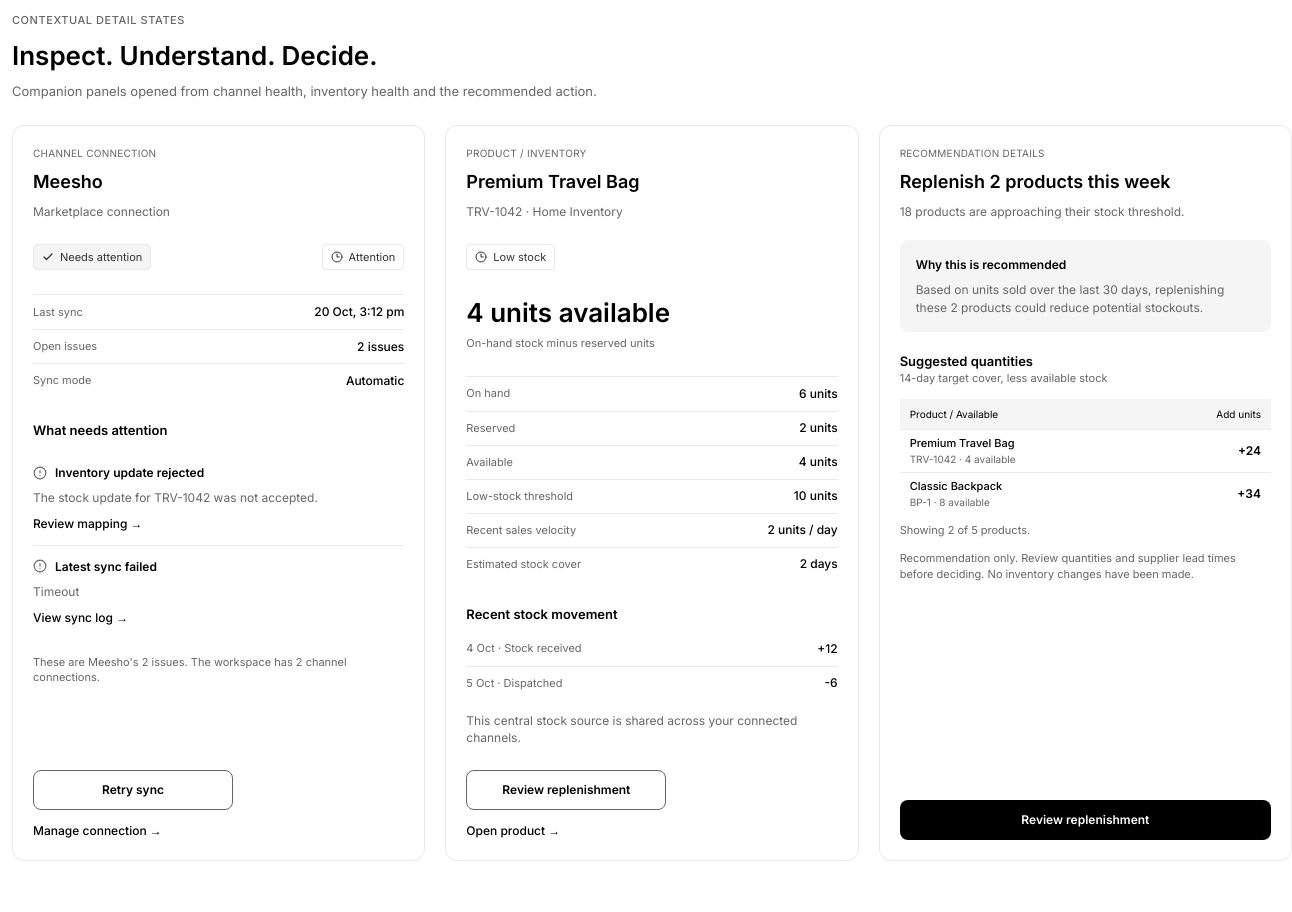
retry sync › reports a failed job honestly
Click the button "Retry sync" at (133, 790), box [33, 770, 233, 810]
Wait 1600 ms
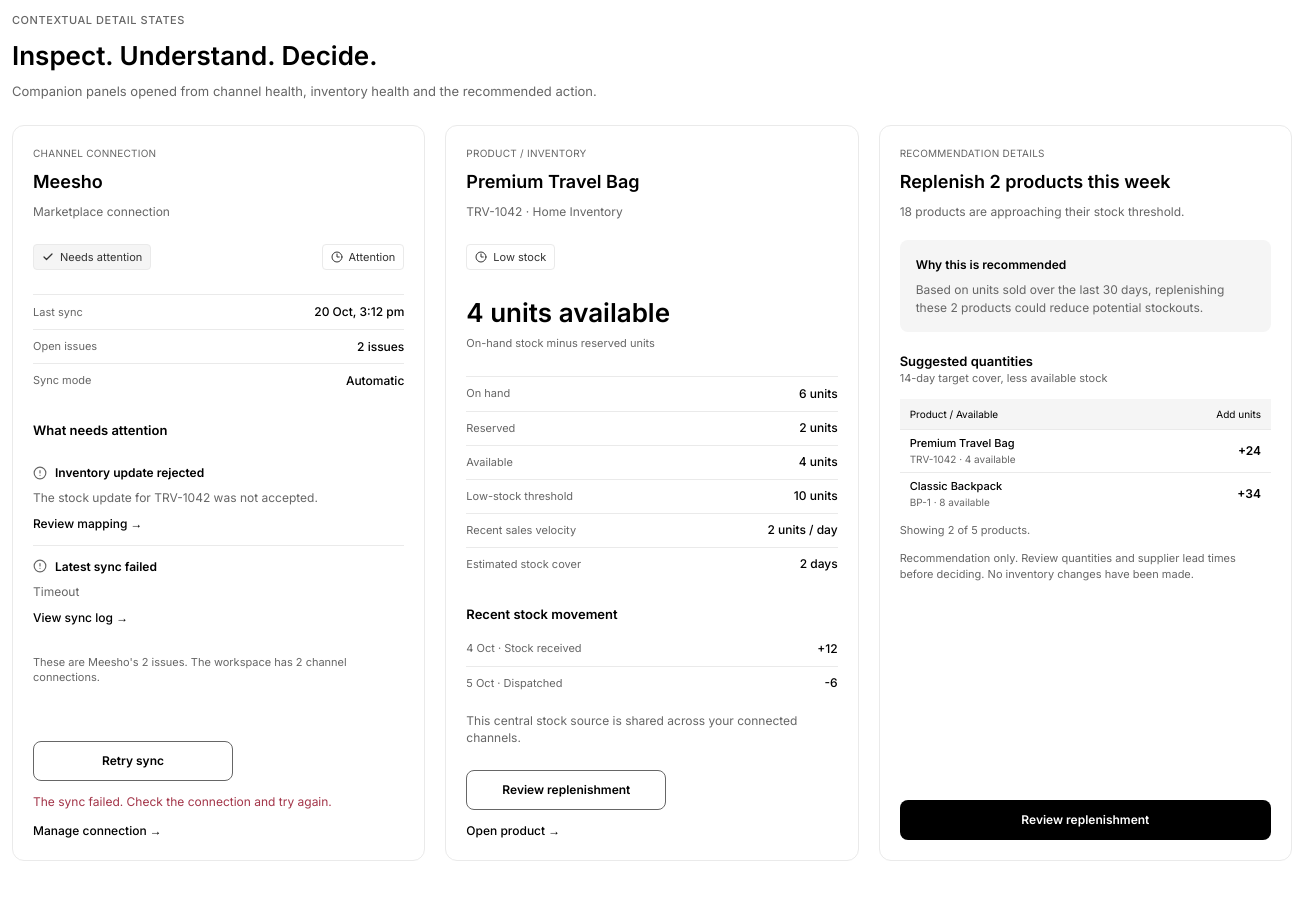
Check: the text "The sync failed. Check the connection and try again." is shown, box [33, 794, 332, 809]
